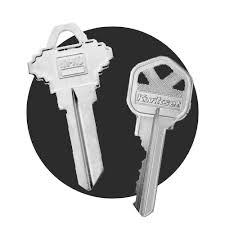kicharina: (124, 54, 195, 218)
